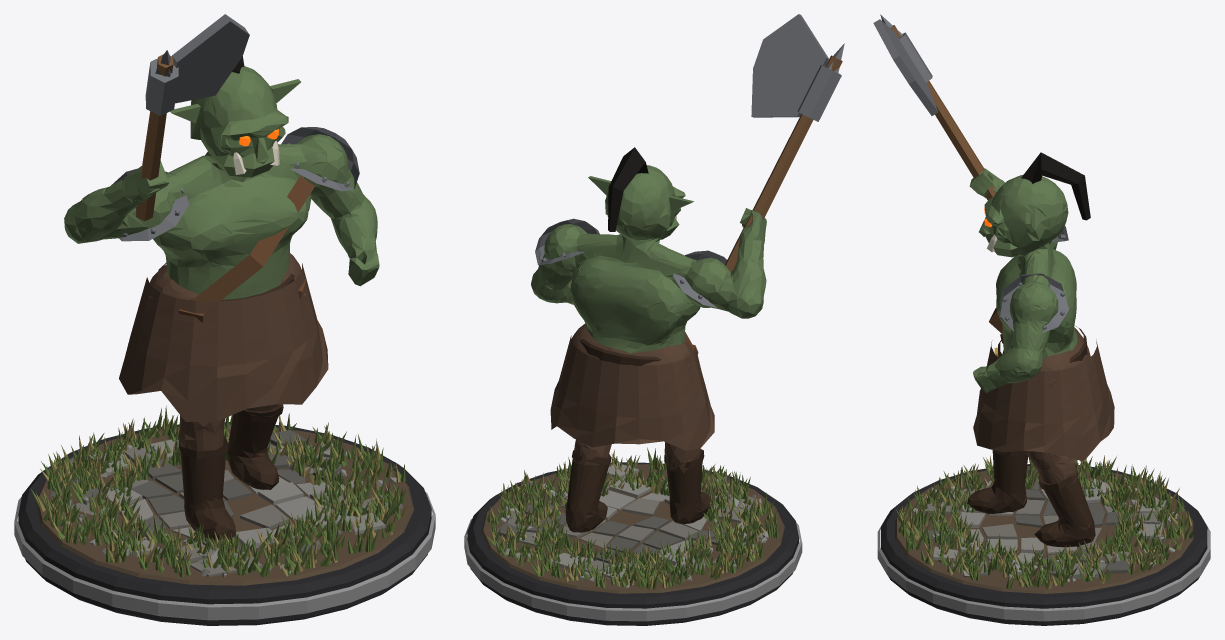
File: orc.glb
3 renders of one model, left to right at view 1: azimuth 30°, elevation 25°; view 2: azimuth 150°, elevation 25°; view 3: azimuth 270°, elevation 25°, orthographic. The views are drawn at different scales.
Visible parts, largest first — view 1: orc; view 2: orc; view 3: orc.
Part boxes in pixels (<box>): orc: <box>14,14,435,625</box>; orc: <box>464,14,844,625</box>; orc: <box>873,14,1210,625</box>.
Size of the model in its own units: 0.856 by 1.41 by 0.8611.
